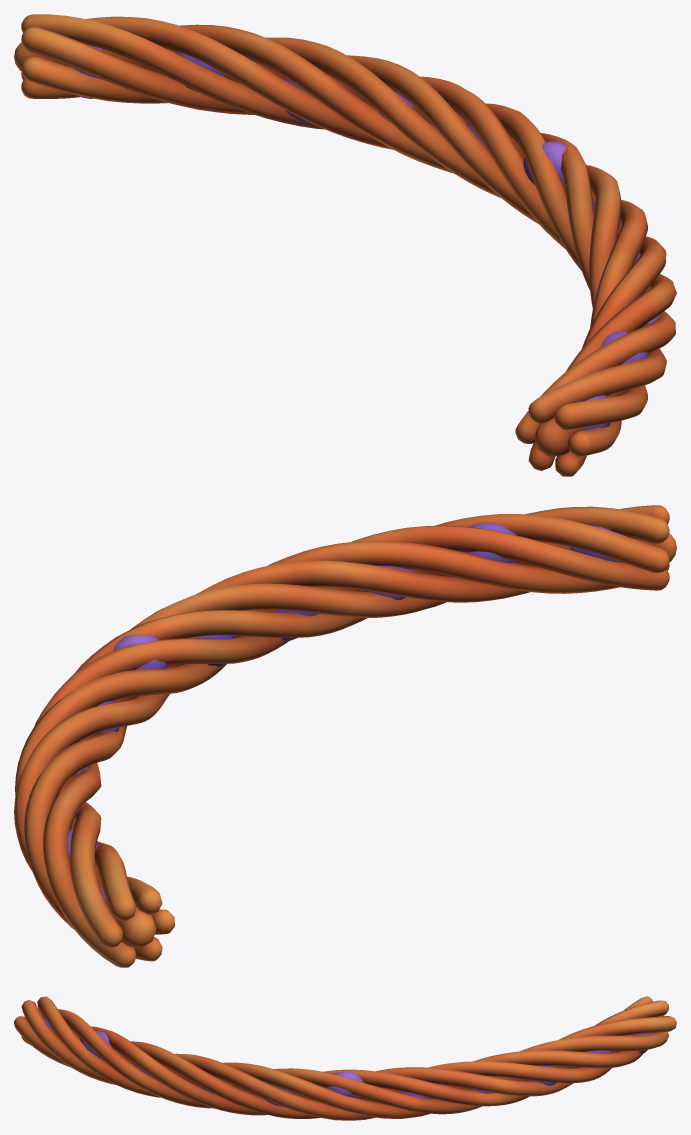
File: cleavage-furrow-ring.glb
The picture shows the model from 3 angles, top to bottom: view 1: azimuth 30°, elevation 25°; view 2: azimuth 150°, elevation 25°; view 3: azimuth 270°, elevation 25°; orthographic projection. The views are drawn at different scales.
Parts seen in each view (by area): view 1: cleavage-furrow-ring-actin, cleavage-furrow-ring-myosin; view 2: cleavage-furrow-ring-actin, cleavage-furrow-ring-myosin; view 3: cleavage-furrow-ring-actin, cleavage-furrow-ring-myosin.
Part boxes in pixels (x1=…): cleavage-furrow-ring-actin: x1=14, y1=14, x2=676, y2=476; cleavage-furrow-ring-myosin: x1=66, y1=45, x2=661, y2=430; cleavage-furrow-ring-actin: x1=14, y1=505, x2=676, y2=967; cleavage-furrow-ring-myosin: x1=67, y1=522, x2=626, y2=899; cleavage-furrow-ring-actin: x1=14, y1=996, x2=676, y2=1120; cleavage-furrow-ring-myosin: x1=42, y1=1016, x2=654, y2=1111.
Size of what is drawn, in the model's own units: 0.6177 by 0.144 by 1.86.
